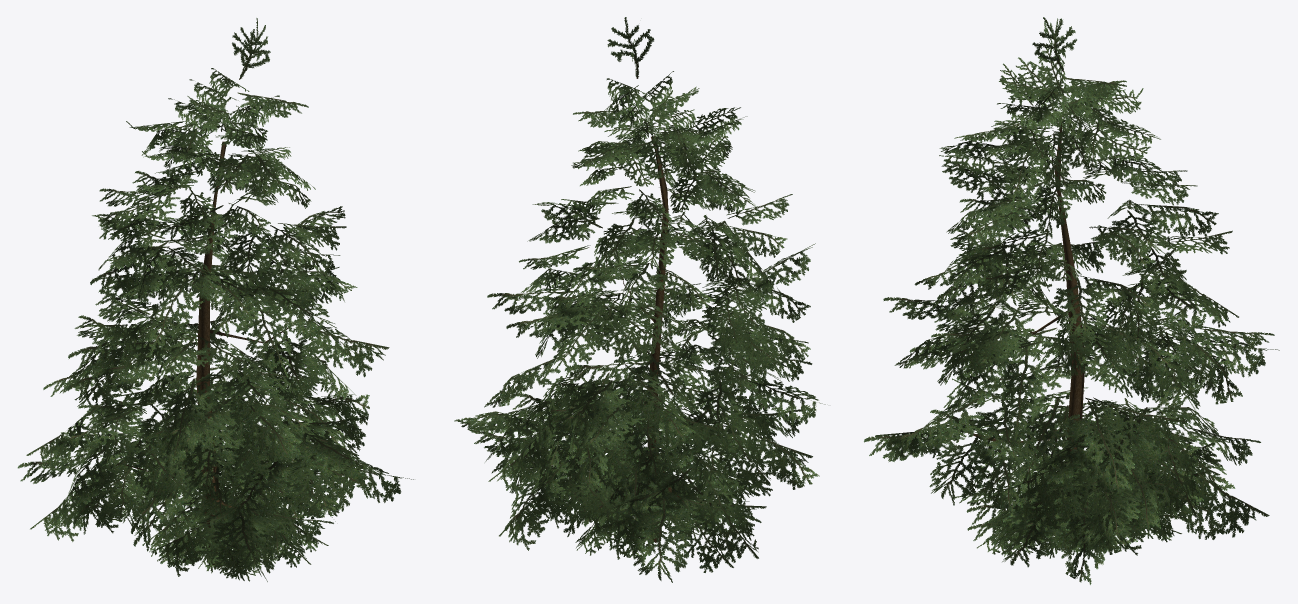
Rendered from koknar_genc_lod1.glb.
The picture shows the model from 3 angles, left to right: view 1: azimuth 30°, elevation 25°; view 2: azimuth 150°, elevation 25°; view 3: azimuth 270°, elevation 25°; orthographic projection. The views are drawn at different scales.
Visible parts, largest first — view 1: koknar_genc_lod1; view 2: koknar_genc_lod1; view 3: koknar_genc_lod1.
Boxes of the visible parts, x1,y1,x2,y2 form: koknar_genc_lod1: (17,18,413,581); koknar_genc_lod1: (454,17,825,582); koknar_genc_lod1: (864,17,1279,584).
Bounding box in the file's own units: 3.14 × 4.5 × 3.14.
2 materials, 2 textured.
